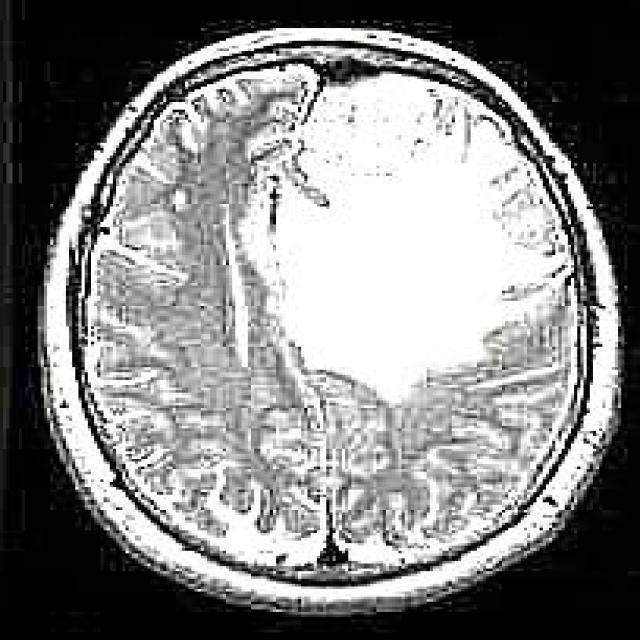brain tumor: (242, 74, 568, 405)
